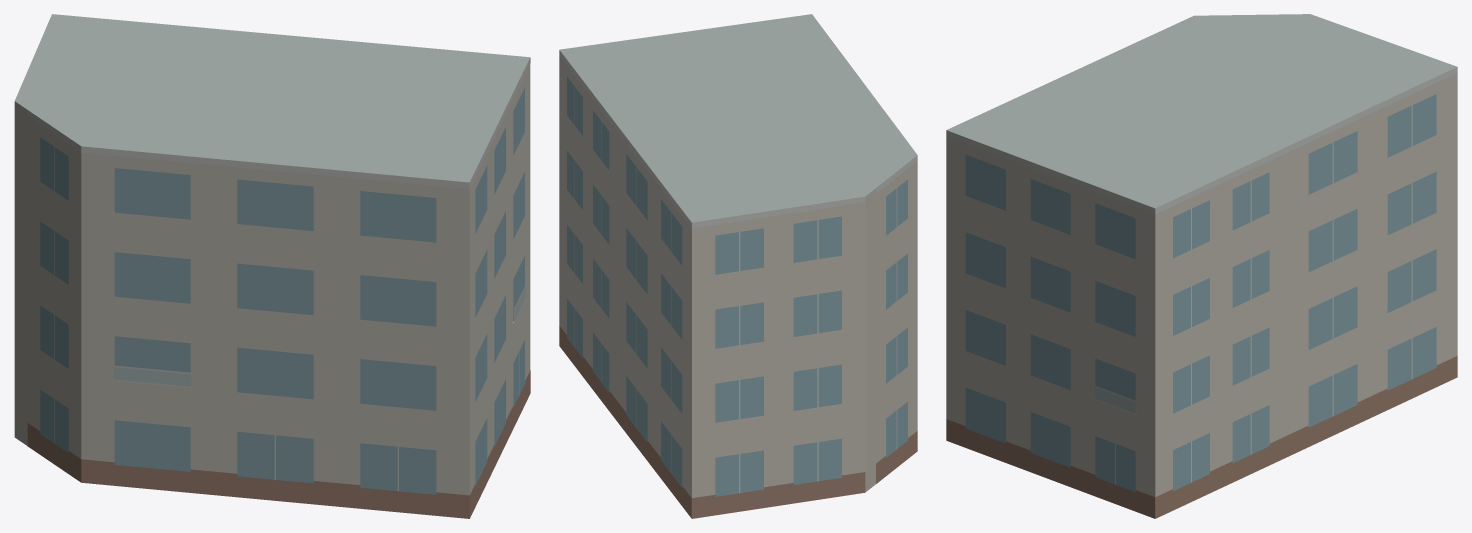
Rendered from survey-upis-32526441.glb.
3 views of the same model, side by side, from view 1: azimuth 30°, elevation 25°; view 2: azimuth 150°, elevation 25°; view 3: azimuth 270°, elevation 25° (orthographic). The views are drawn at different scales.
Visible parts, largest first — view 1: survey-upis-32526441.tmp; view 2: survey-upis-32526441.tmp; view 3: survey-upis-32526441.tmp.
Part boxes in pixels (x1=…): survey-upis-32526441.tmp: x1=14, y1=14, x2=530, y2=518; survey-upis-32526441.tmp: x1=559, y1=14, x2=917, y2=518; survey-upis-32526441.tmp: x1=946, y1=14, x2=1457, y2=518.
Size of the model in its own units: 17.13 by 12.75 by 19.04.
